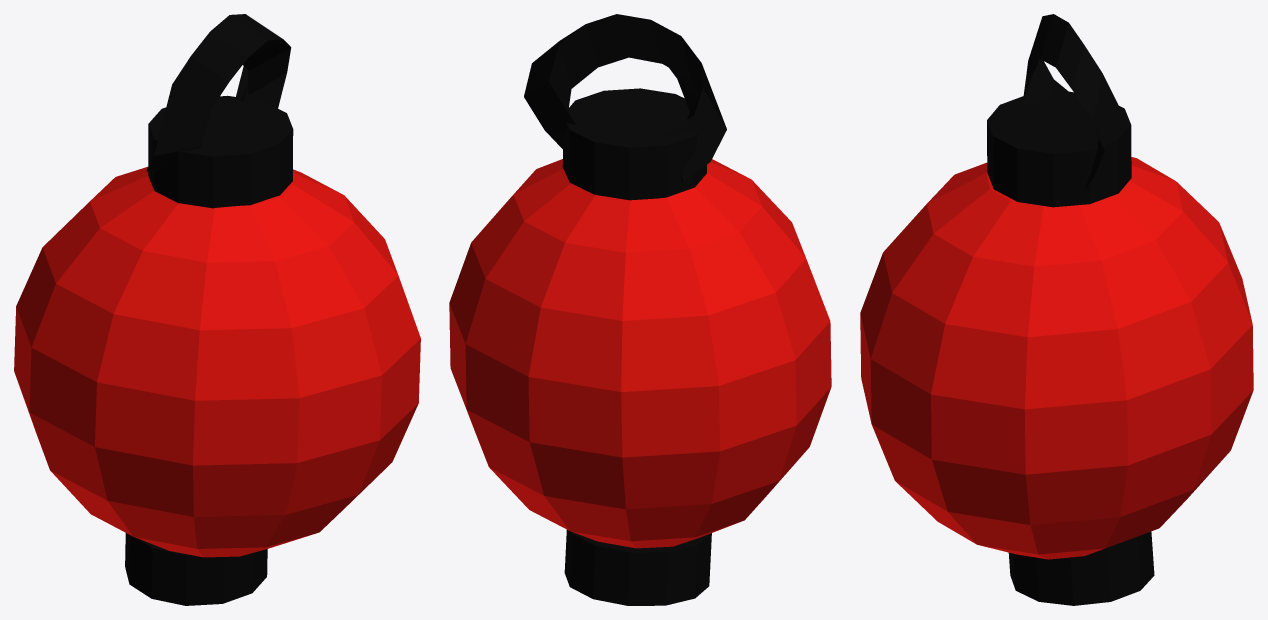
3 renders of one model, left to right at view 1: azimuth 30°, elevation 25°; view 2: azimuth 150°, elevation 25°; view 3: azimuth 270°, elevation 25°, orthographic. The views are drawn at different scales.
Parts seen in each view (by area): view 1: group133018764, group839295325, group1264860141, group113932148; view 2: group133018764, group839295325, group1264860141, group113932148; view 3: group133018764, group839295325, group113932148, group1264860141.
Part boxes in pixels (bbox=[...]): group133018764: bbox=[14, 166, 420, 557]; group839295325: bbox=[148, 95, 293, 208]; group1264860141: bbox=[146, 14, 291, 171]; group113932148: bbox=[125, 533, 267, 605]; group133018764: bbox=[449, 159, 831, 548]; group839295325: bbox=[562, 88, 706, 200]; group1264860141: bbox=[524, 14, 726, 180]; group113932148: bbox=[564, 530, 711, 605]; group133018764: bbox=[860, 157, 1253, 559]; group839295325: bbox=[987, 91, 1131, 207]; group113932148: bbox=[1008, 531, 1154, 605]; group1264860141: bbox=[1023, 14, 1118, 189].
Bounding box in the file's own units: 0.4815 × 0.7467 × 0.4667.
